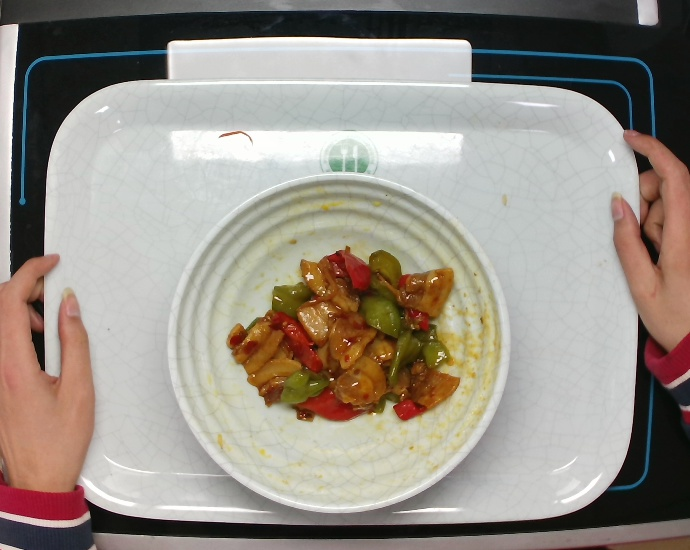JYsf-Da_Tang_Wan: (166, 170, 514, 516)
